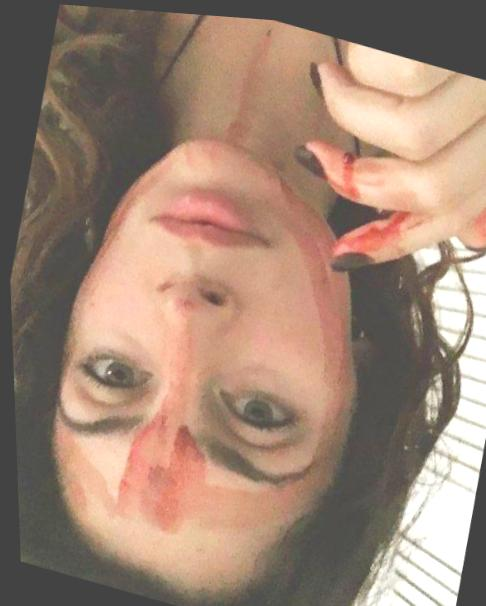Fire: (98, 413, 203, 532), (328, 204, 409, 265)
